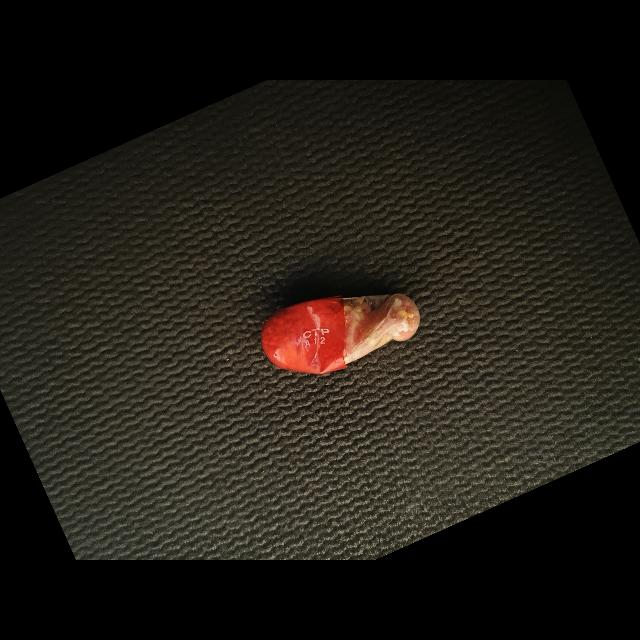Defective Capsule: (261, 294, 420, 374)
